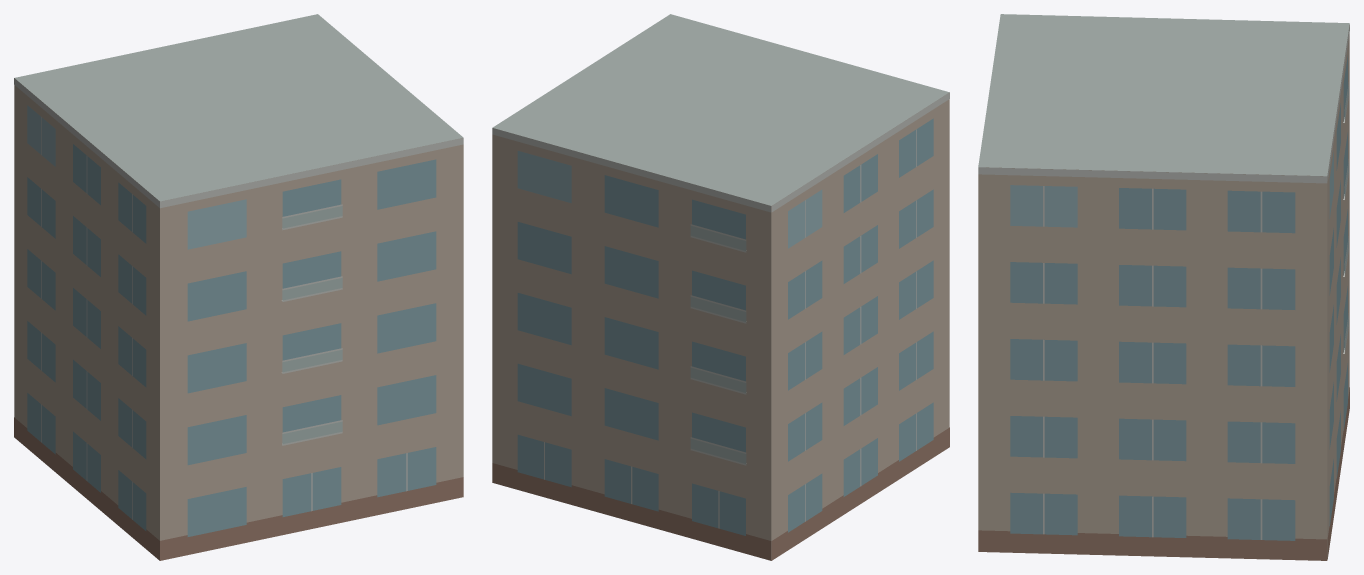
The model's file is survey-upis-32774119.glb.
3 views of the same model, side by side, from view 1: azimuth 30°, elevation 25°; view 2: azimuth 150°, elevation 25°; view 3: azimuth 270°, elevation 25° (orthographic). The views are drawn at different scales.
Visible parts, largest first — view 1: survey-upis-32774119.tmp; view 2: survey-upis-32774119.tmp; view 3: survey-upis-32774119.tmp.
Boxes of the visible parts, x1,y1,x2,y2 form: survey-upis-32774119.tmp: (14,14,463,560); survey-upis-32774119.tmp: (492,14,949,560); survey-upis-32774119.tmp: (978,14,1349,560).
Size of the model in its own units: 11.77 by 13 by 11.39.
